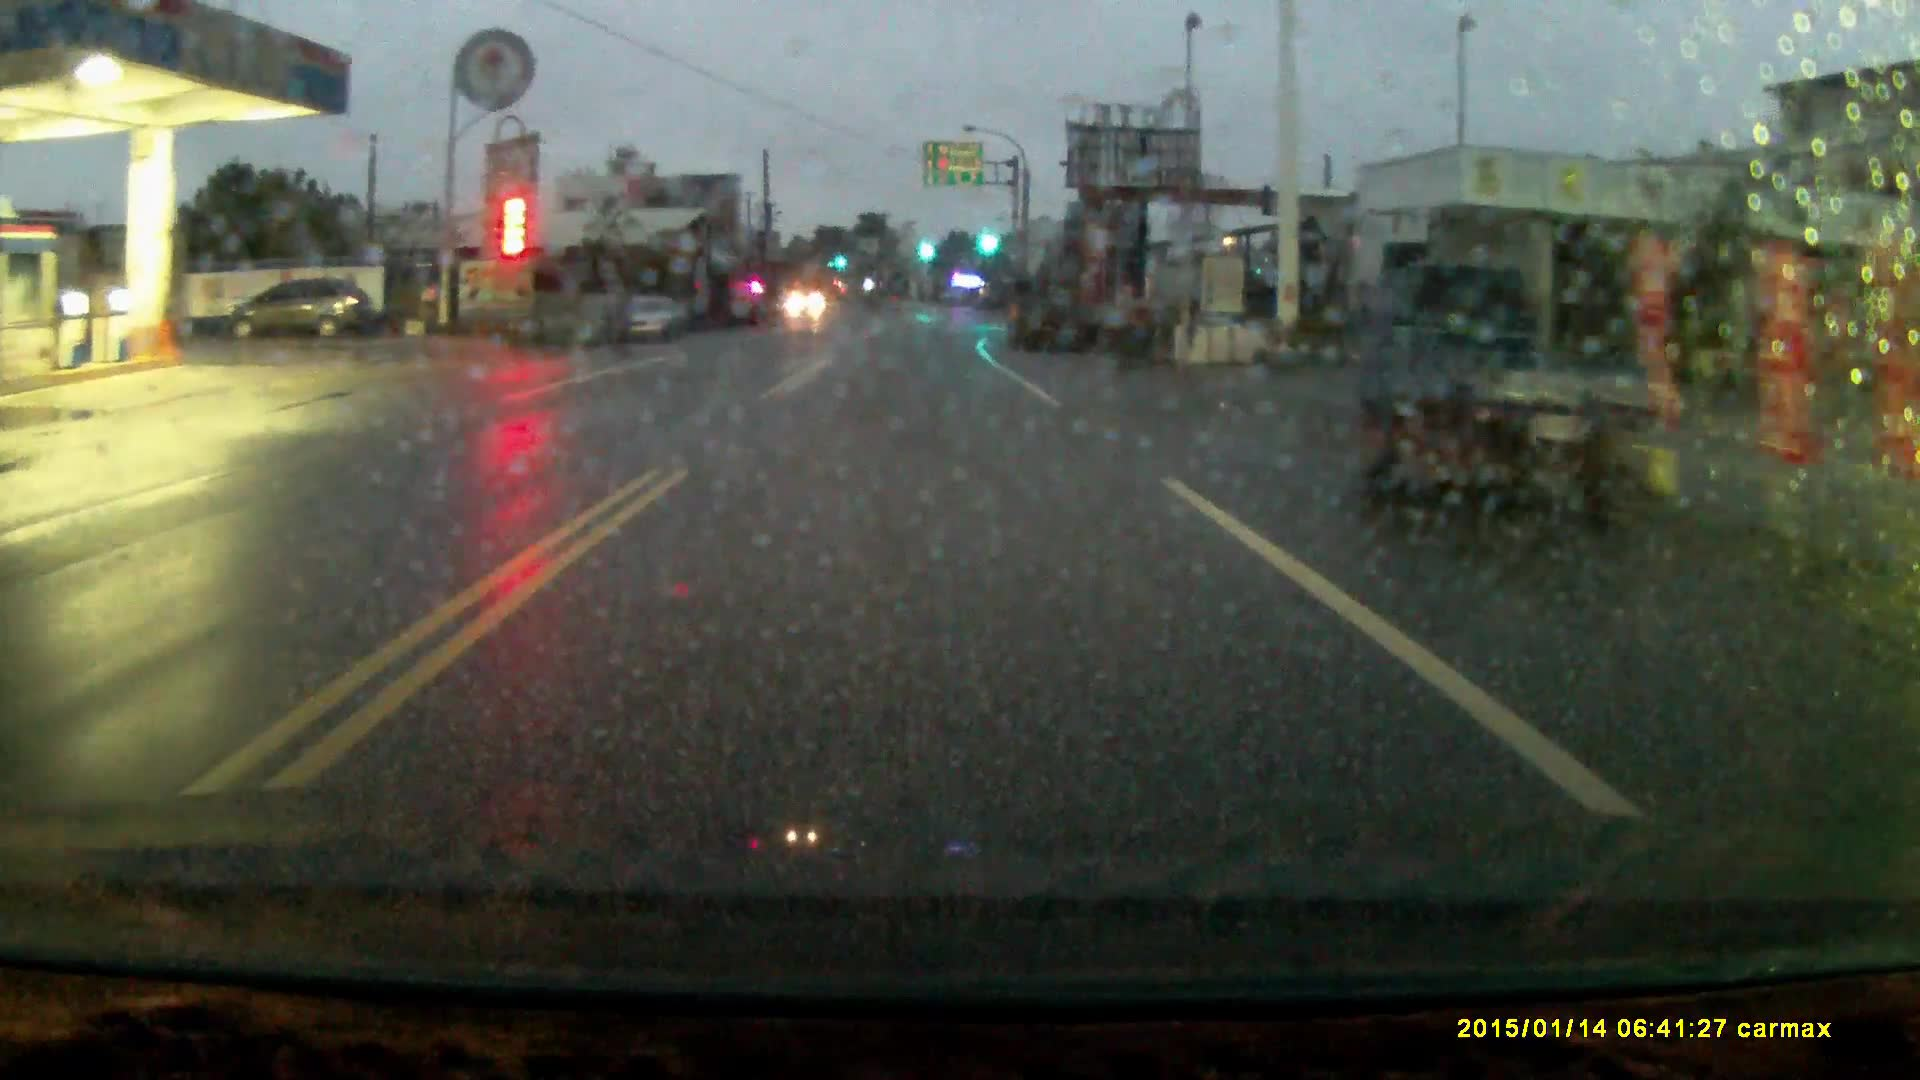rider: (611, 267, 659, 359)
vehicle: (1411, 266, 1632, 514), (224, 283, 374, 342), (1008, 270, 1100, 357), (613, 300, 698, 349)
